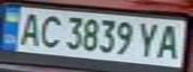3: (63, 14, 84, 52), (97, 17, 118, 55)
8: (78, 16, 100, 53)
9: (115, 18, 139, 56)
A: (154, 21, 187, 61), (12, 10, 45, 47)
C: (36, 12, 66, 48)
Y: (136, 19, 163, 58)
